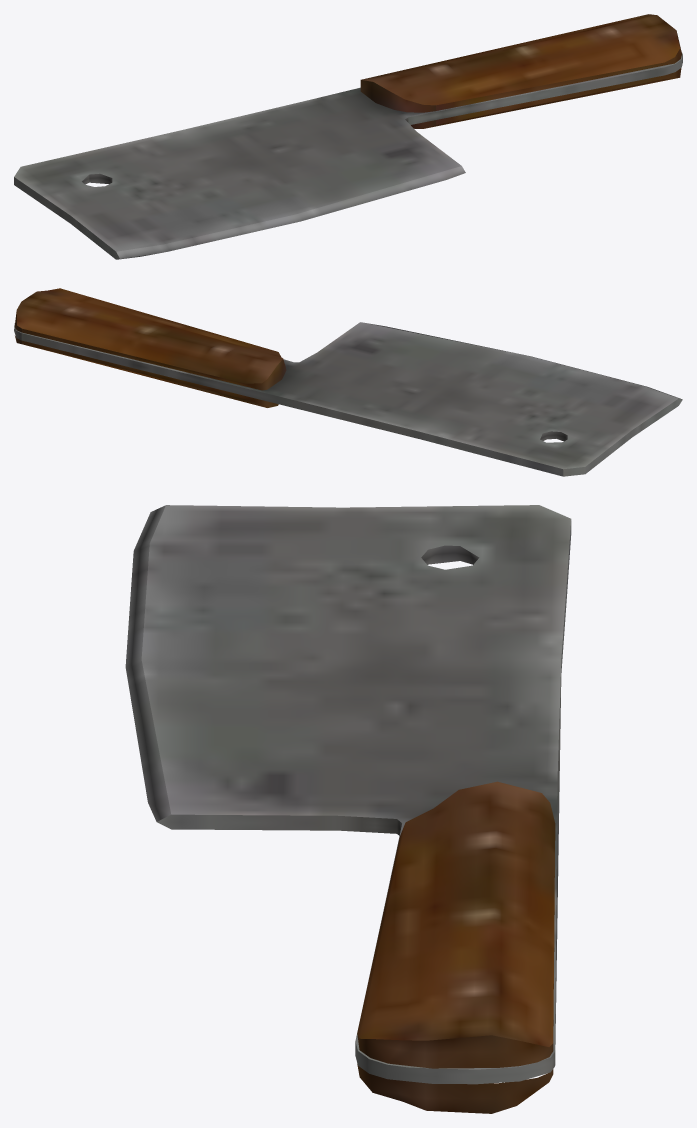
File: medical_cleaver.glb
The picture shows the model from 3 angles, top to bottom: view 1: azimuth 30°, elevation 25°; view 2: azimuth 150°, elevation 25°; view 3: azimuth 270°, elevation 25°; orthographic projection. The views are drawn at different scales.
Parts seen in each view (by area): view 1: Medical_Cleaver; view 2: Medical_Cleaver; view 3: Medical_Cleaver.
Part boxes in pixels (<box>): Medical_Cleaver: <box>14,14,682,259</box>; Medical_Cleaver: <box>14,288,682,476</box>; Medical_Cleaver: <box>125,505,571,1113</box>.
Size of the model in its own units: 0.3257 by 0.0221 by 0.1086.
Materials: 1 (1 with a texture image).
